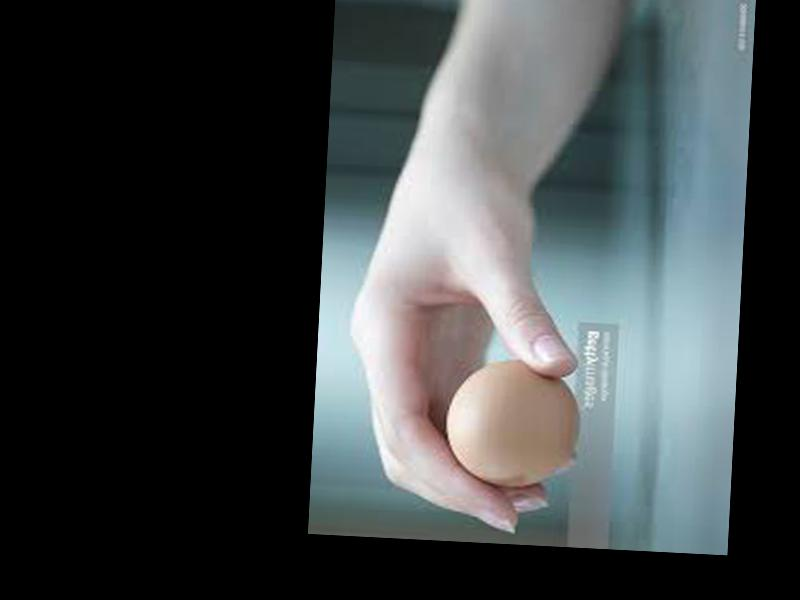Eggs: (441, 354, 585, 490)
